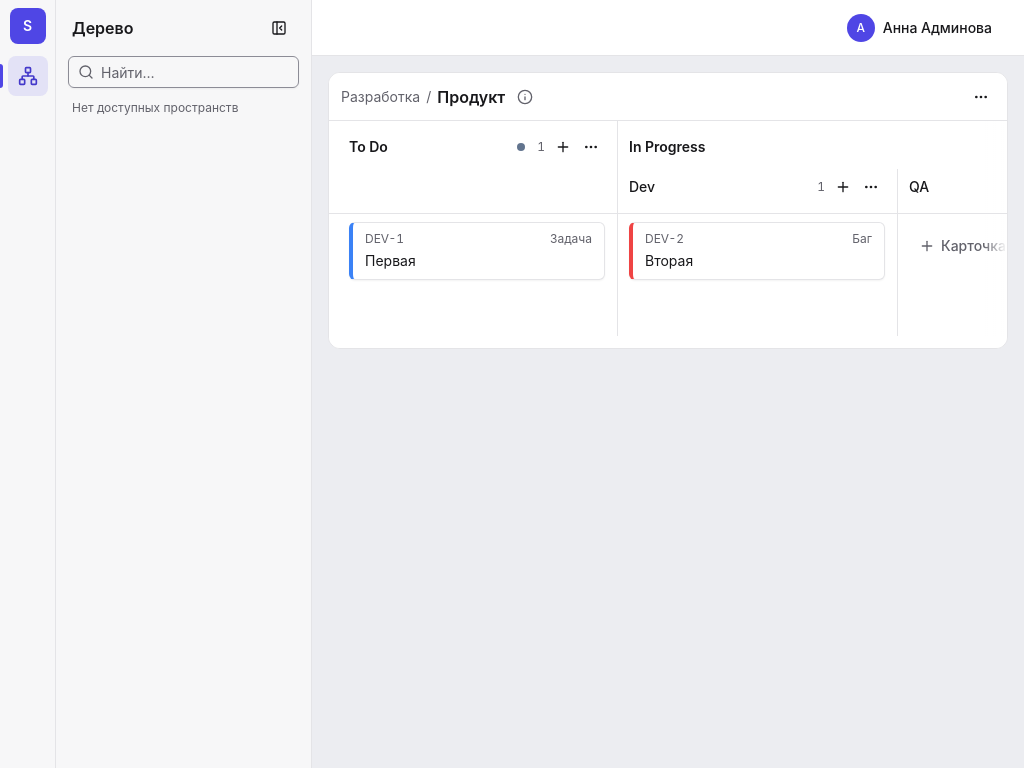
Доска › описание доски — за значком ⓘ в шапке, во всплывающем окне с переносами строк
Expected: the heading "Продукт" is shown, [437,84,505,108]
Expected: the text "Как завести баг:" is not shown
What coordinates should you click on to do the following:
click the button named "Описание доски «"
I would click on:
 (525, 96)
Its box is [511,82,539,110].
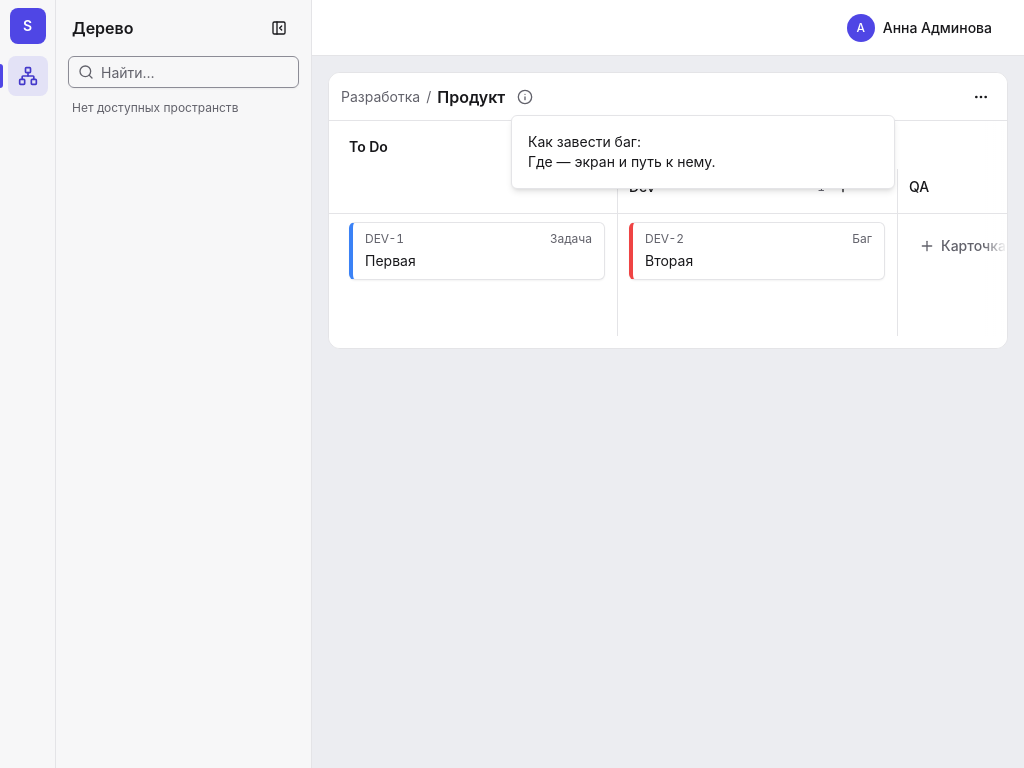
Result: the text "Как завести баг: Где — экран и путь к нему." is shown at [528,133,716,170]
